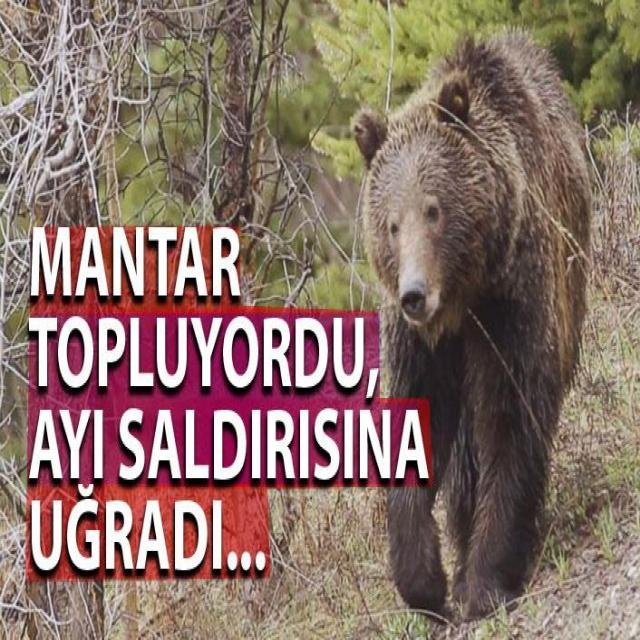Bear: (361, 31, 600, 628)
